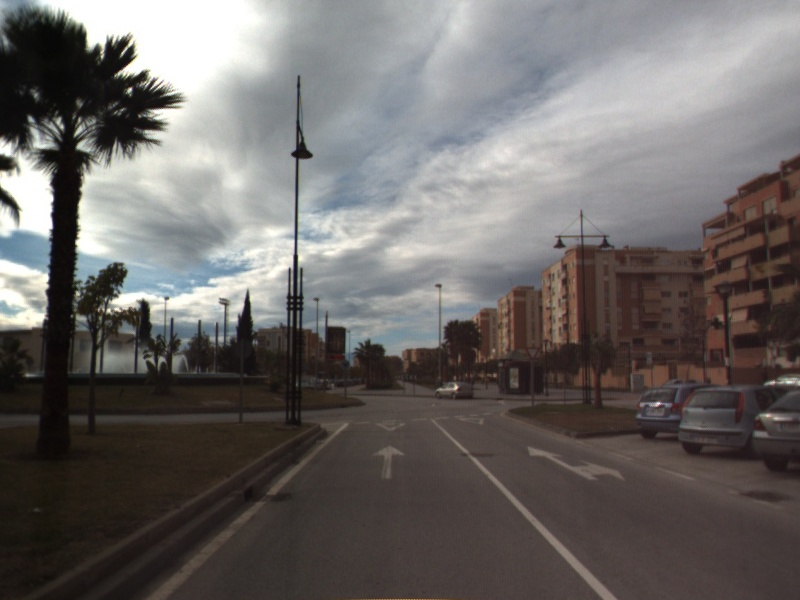STRAIGHT: (370, 442, 407, 481)
STRAIGHT_RIGHT: (526, 444, 626, 482)
